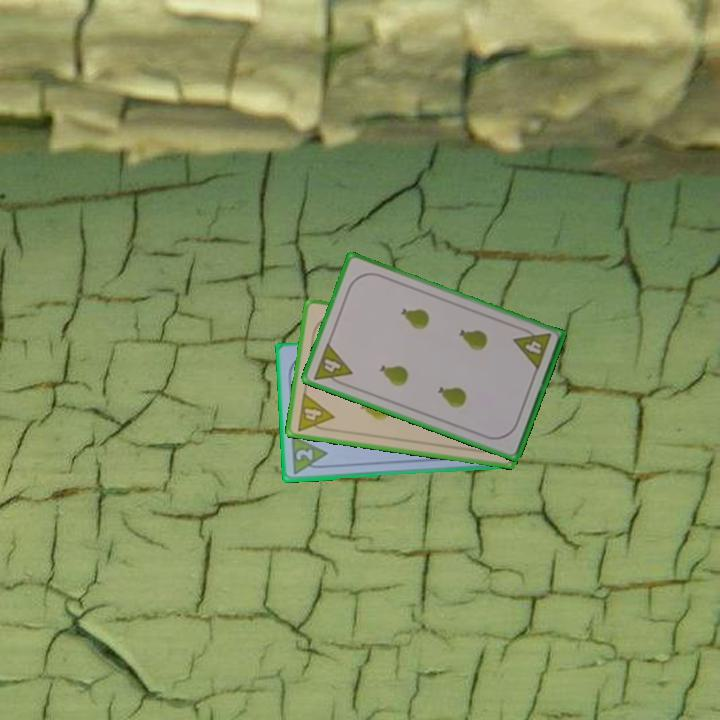2p: (287, 433, 330, 477)
4p: (310, 339, 355, 390), (510, 323, 554, 373), (293, 389, 337, 435)
